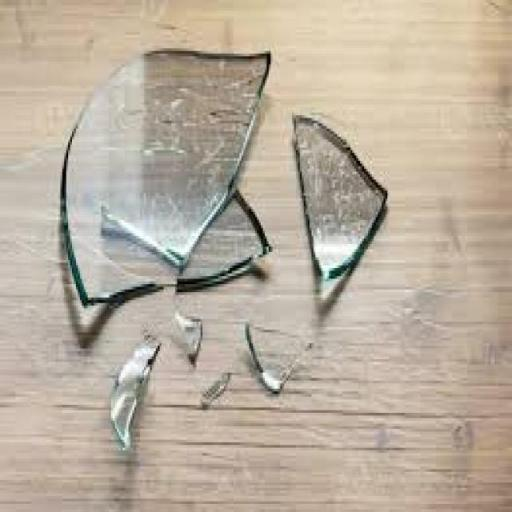glass: (38, 31, 281, 332), (290, 115, 388, 294), (163, 187, 273, 315), (108, 336, 162, 452), (244, 321, 308, 394), (172, 310, 202, 362), (200, 369, 234, 410)
